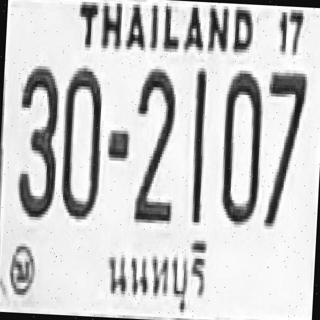N00: (218, 68, 263, 224), (59, 65, 104, 217)
N01: (188, 67, 207, 224)
N02: (131, 65, 176, 221)
N03: (15, 64, 61, 216)
N07: (261, 69, 306, 225)
P37: (98, 230, 216, 317)
